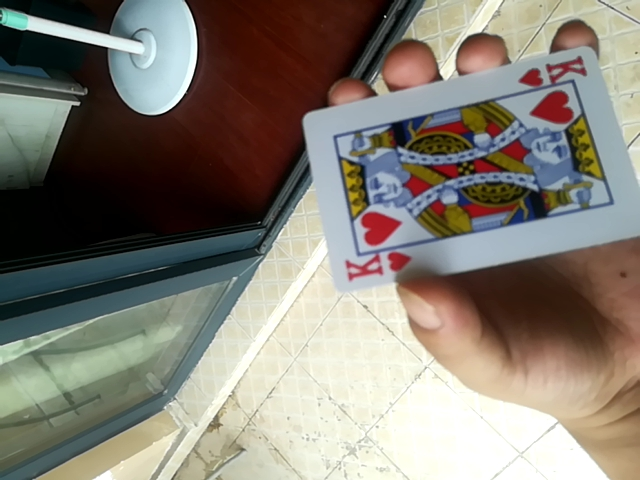hx k: (301, 47, 639, 295)
